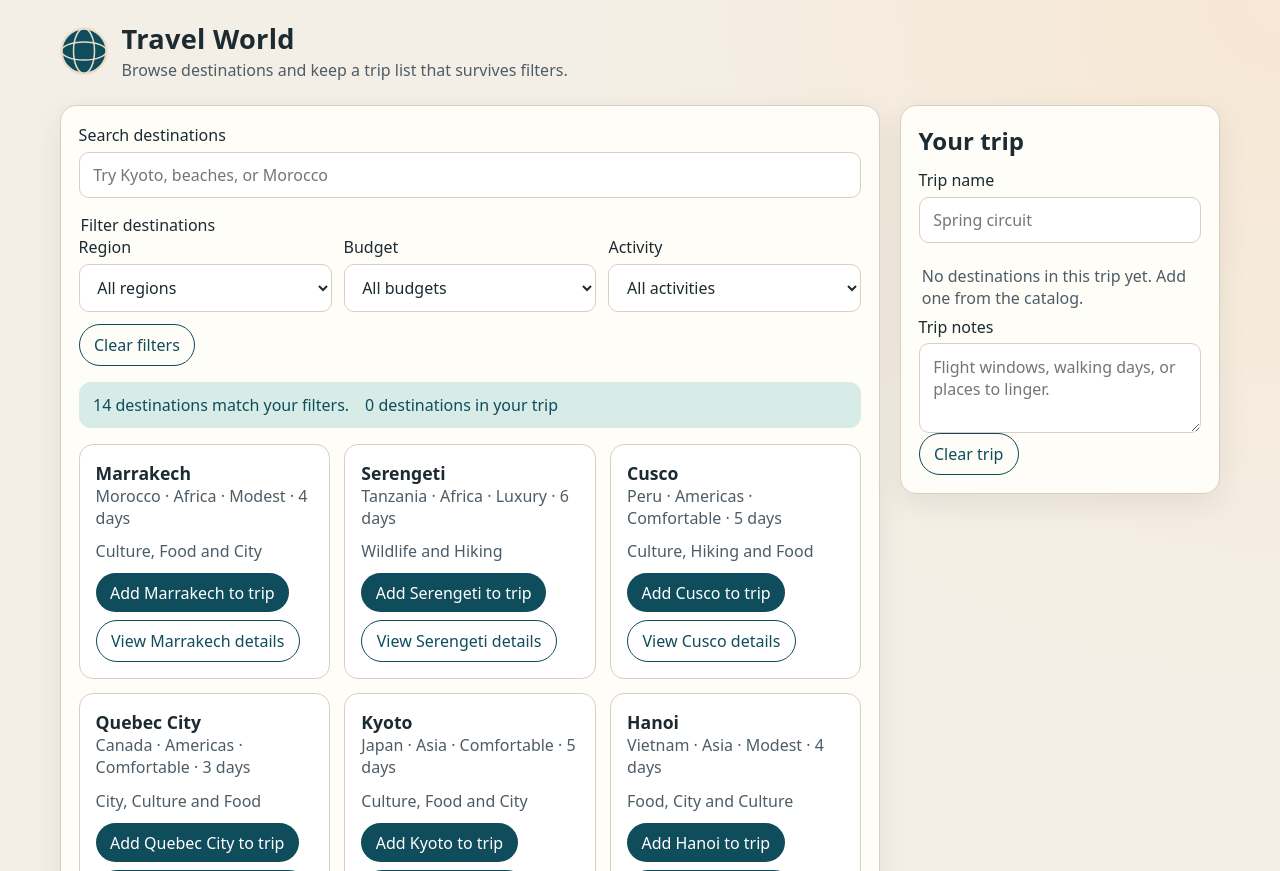
Scenario: Travel World app › keeps a selected destination in the trip after a filter hides it
The image size is (1280, 871).
Click the button "Add Kyoto to trip": (439, 843) x1=361 y1=823 x2=518 y2=862
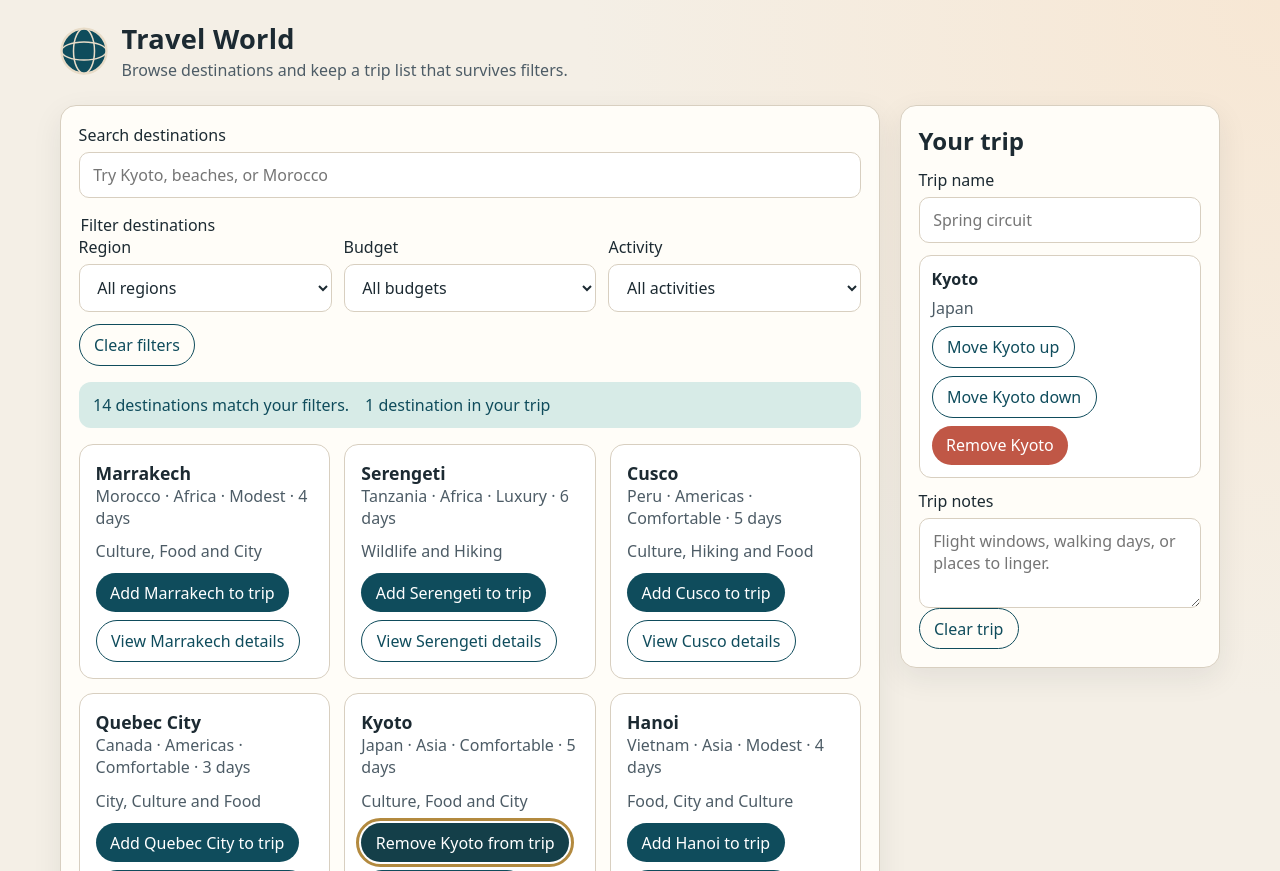
Select "Europe" in the dropdown labelled "Region": (205, 288) x1=79 y1=264 x2=332 y2=312
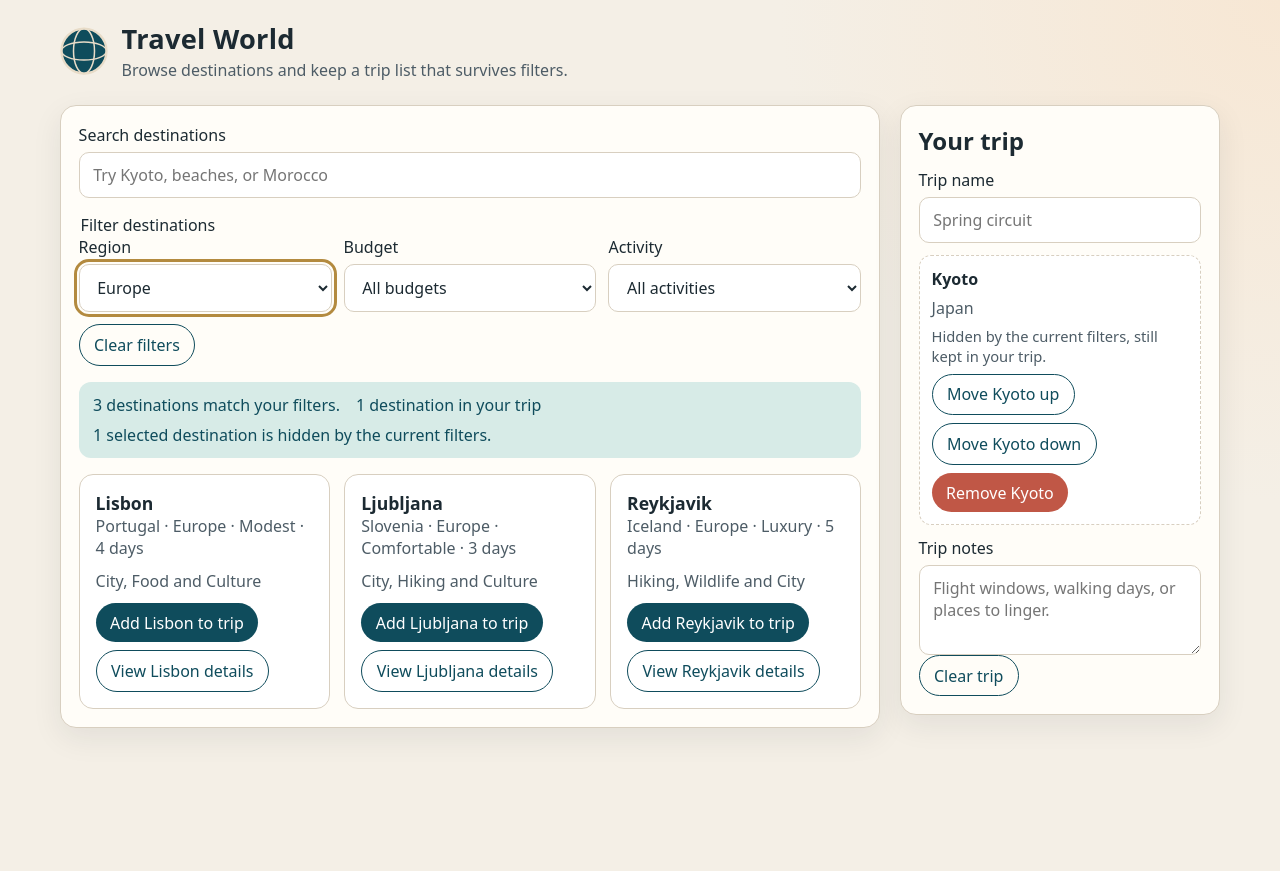
Check: the text "Kyoto" is shown, box x1=932 y1=268 x2=978 y2=290
Check: the text "Hidden by the current filters, still kept in your trip." is shown, box x1=932 y1=326 x2=1188 y2=366
Check: the message shows "1 selected destination is hidden by the current filters.", box x1=93 y1=424 x2=491 y2=446
